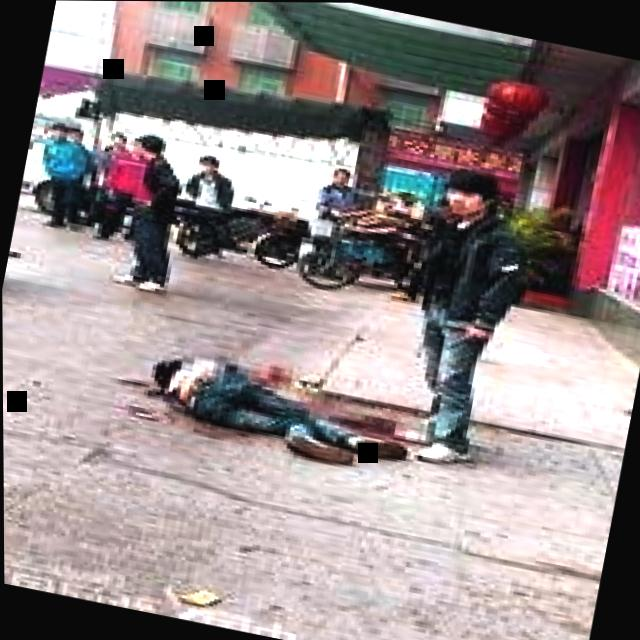Fall-Detected: (133, 318, 441, 480)
